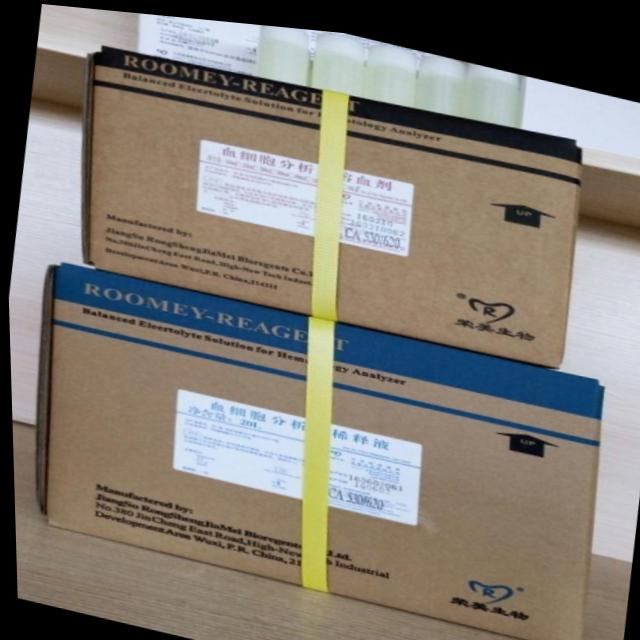box: (34, 261, 603, 639), (77, 43, 583, 359)
